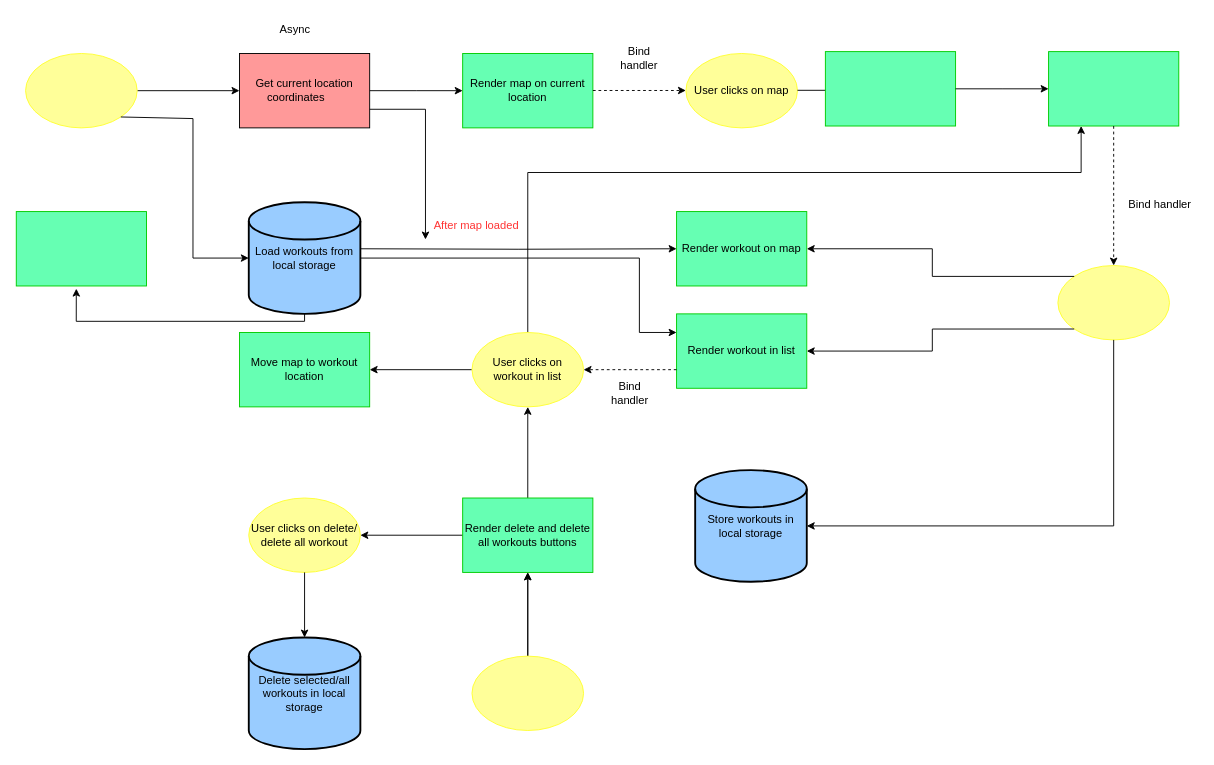
This 1214x765 diagram has some shape labels left out. The shapes that lost their labels are listed below. From the top down, each one's centre as x and y in pixels, then its label:
At [81,90]: "Page loads".
At [890,88]: "Render popup marker".
At [1113,88]: "Render workout form".
At [80,248]: "render sort workouts (default: date) options i.e: distance, pace.".
At [1113,302]: "User submits new workout".
At [527,693]: "User clicks on edit".
